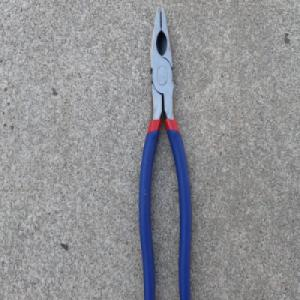Pliers: (137, 6, 193, 300)
